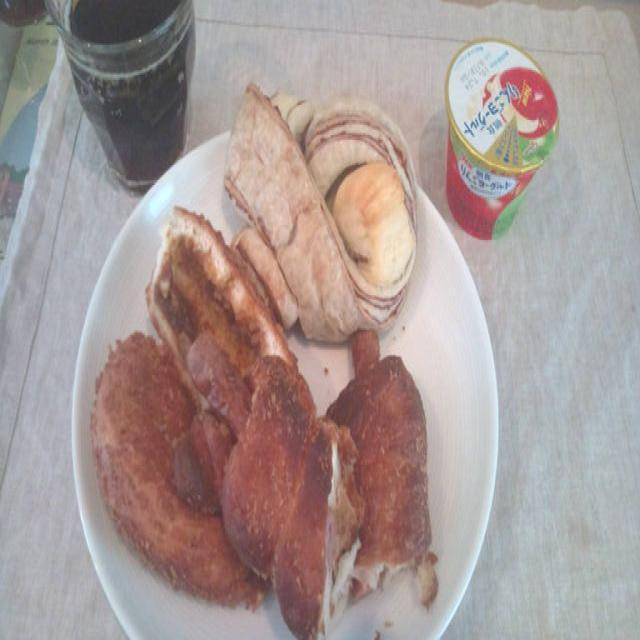chip-butty: (62, 86, 454, 634)
